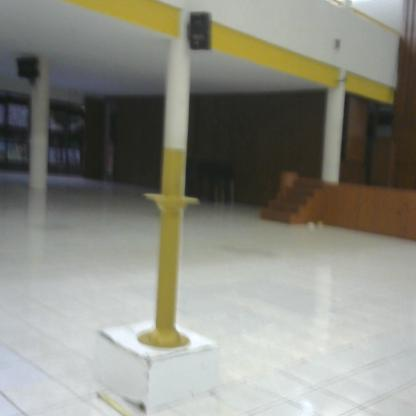pole: (136, 139, 205, 358)
